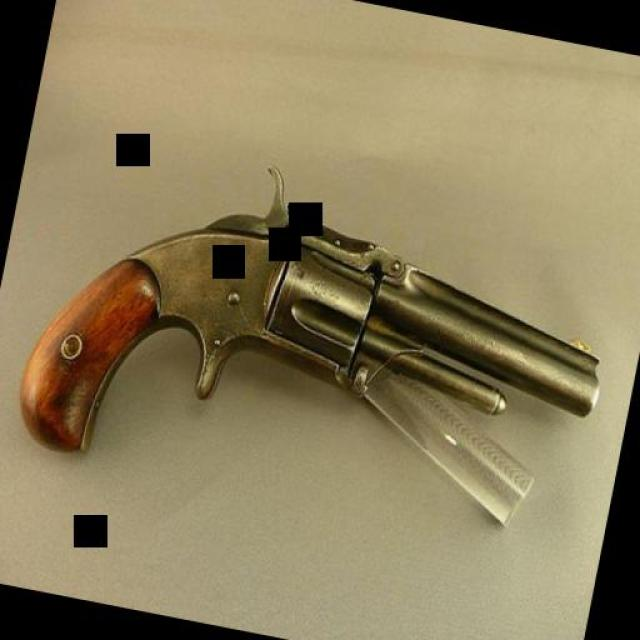gun: (8, 121, 628, 550)
